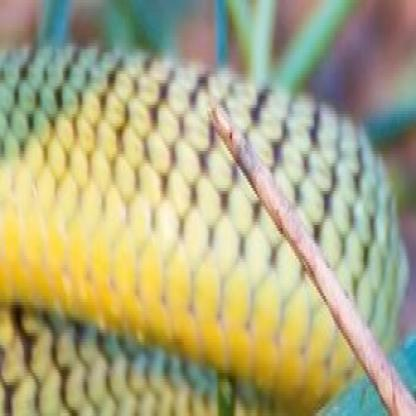Snake: (0, 34, 416, 413)
